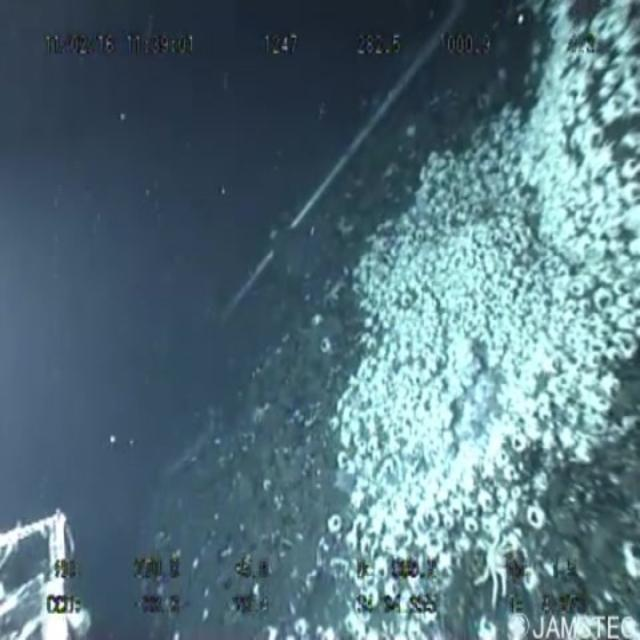Metal: (180, 7, 484, 361)
